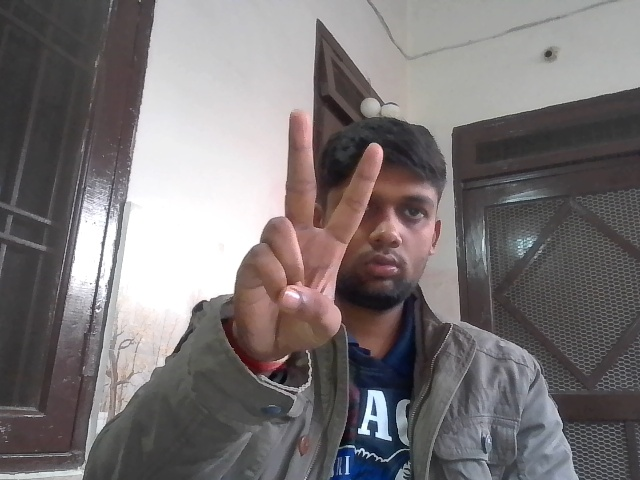Enjoy: (231, 100, 385, 361)
